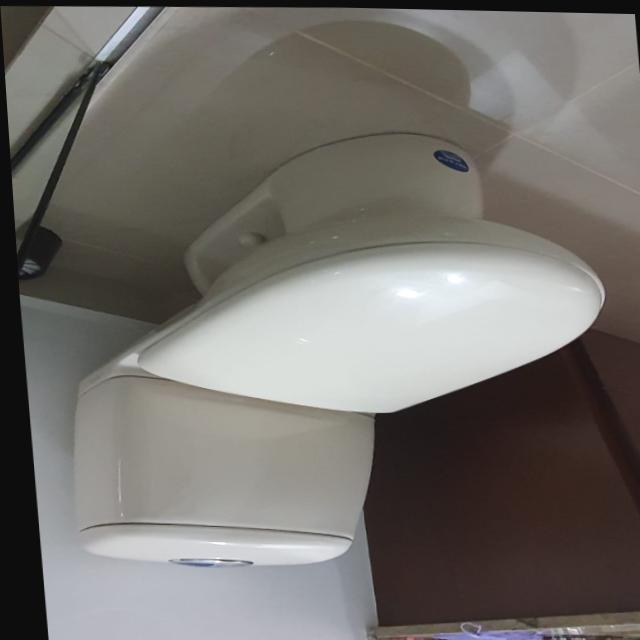toilet: (40, 121, 622, 576)
